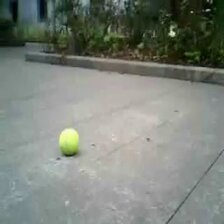tennis: (58, 127, 80, 155)
